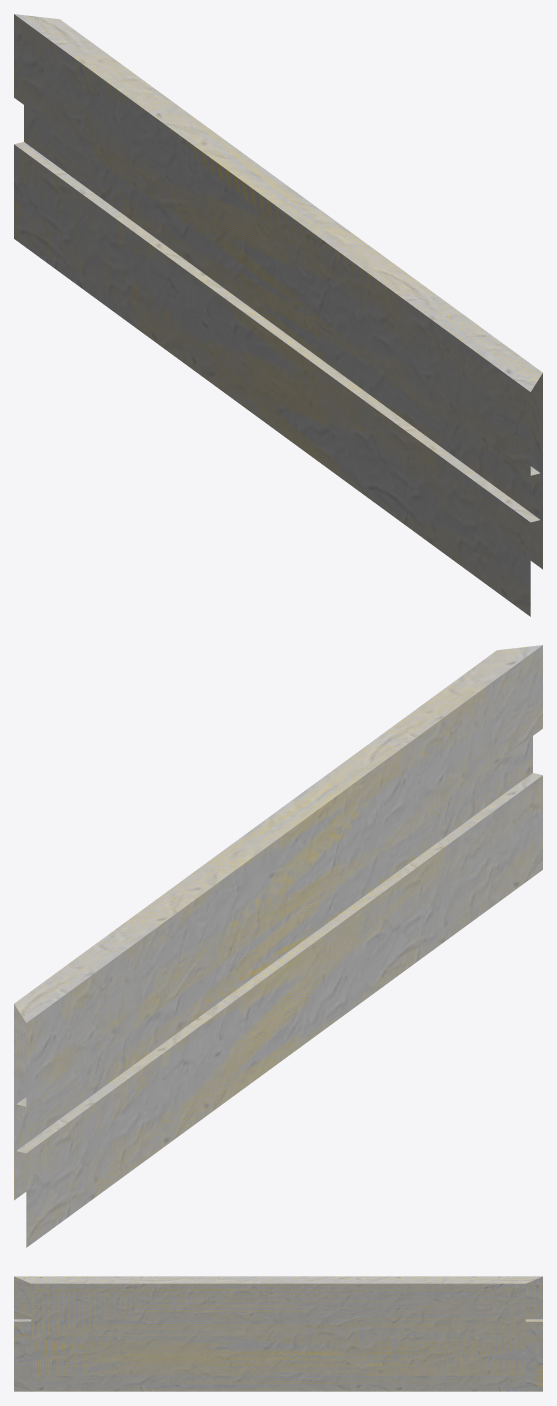
3 views of the same model, one above another, from view 1: azimuth 30°, elevation 25°; view 2: azimuth 150°, elevation 25°; view 3: azimuth 270°, elevation 25° (orthographic). The views are drawn at different scales.
Bounding box in the file's own units: 0.0217 × 0.1597 × 0.6654.
2 materials, 2 textured.
